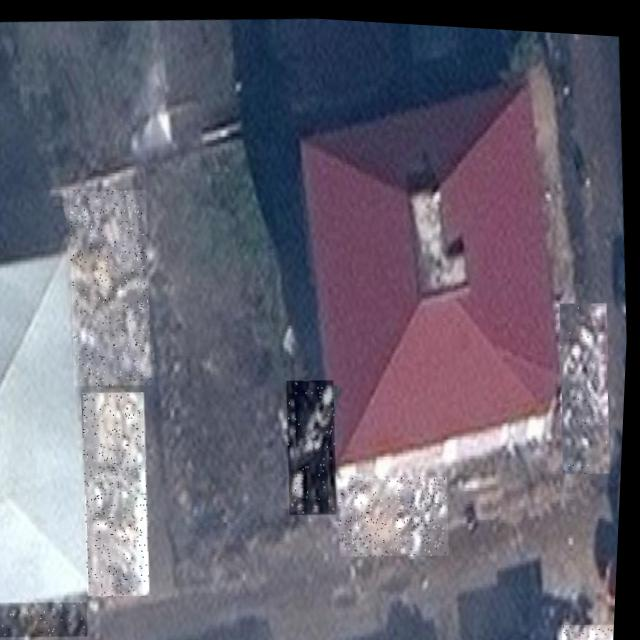Rubble: (64, 184, 161, 388), (78, 387, 162, 597), (556, 293, 620, 468), (339, 466, 456, 556), (285, 373, 345, 513), (0, 596, 94, 640), (565, 613, 620, 640)
